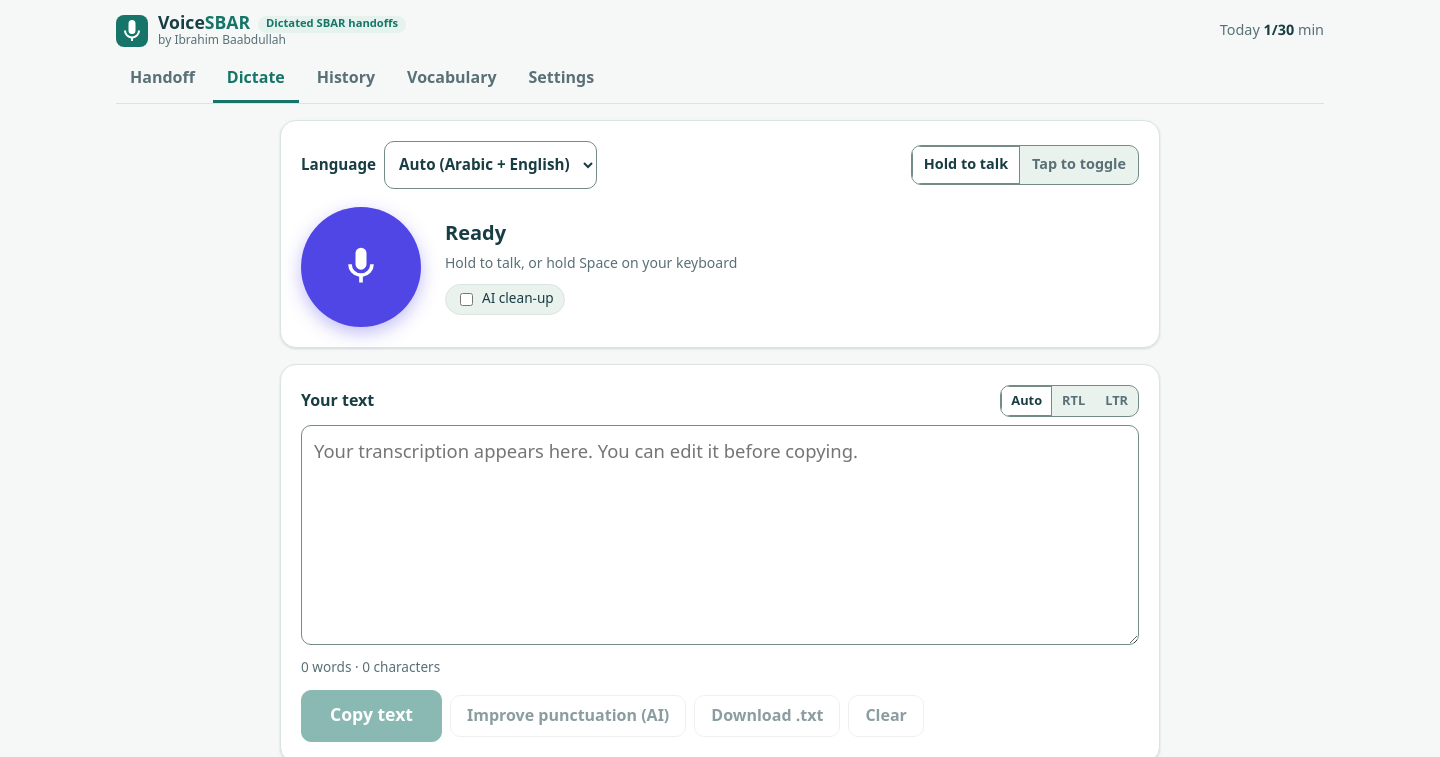
Test: dictation › falls back to selecting the text when copying is blocked
Replace the text in the text box labelled "Your text" with "نص للنسخ". click: (720, 535)
box: [301,425,1139,645]
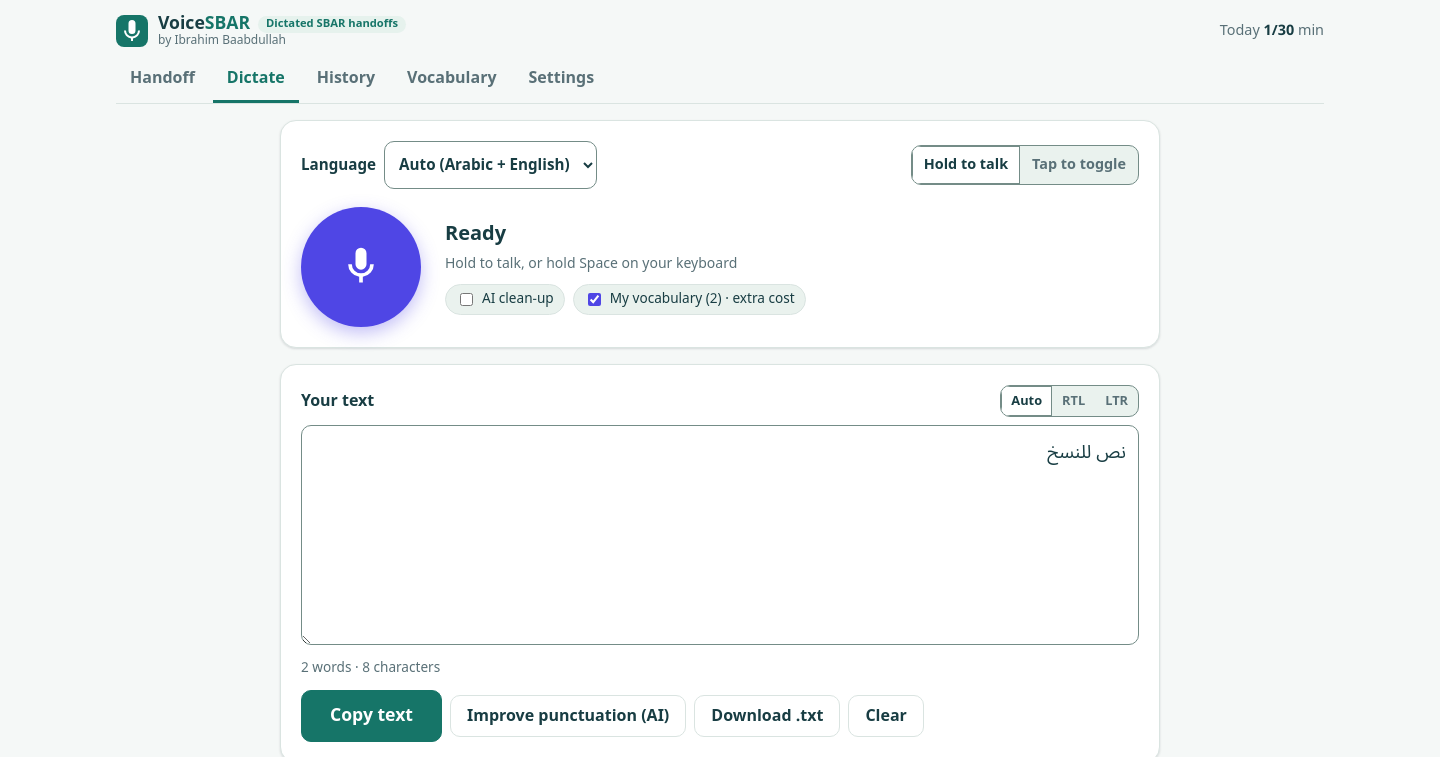
Click the button "Copy text". click: (372, 716)
box: [301,690,442,742]
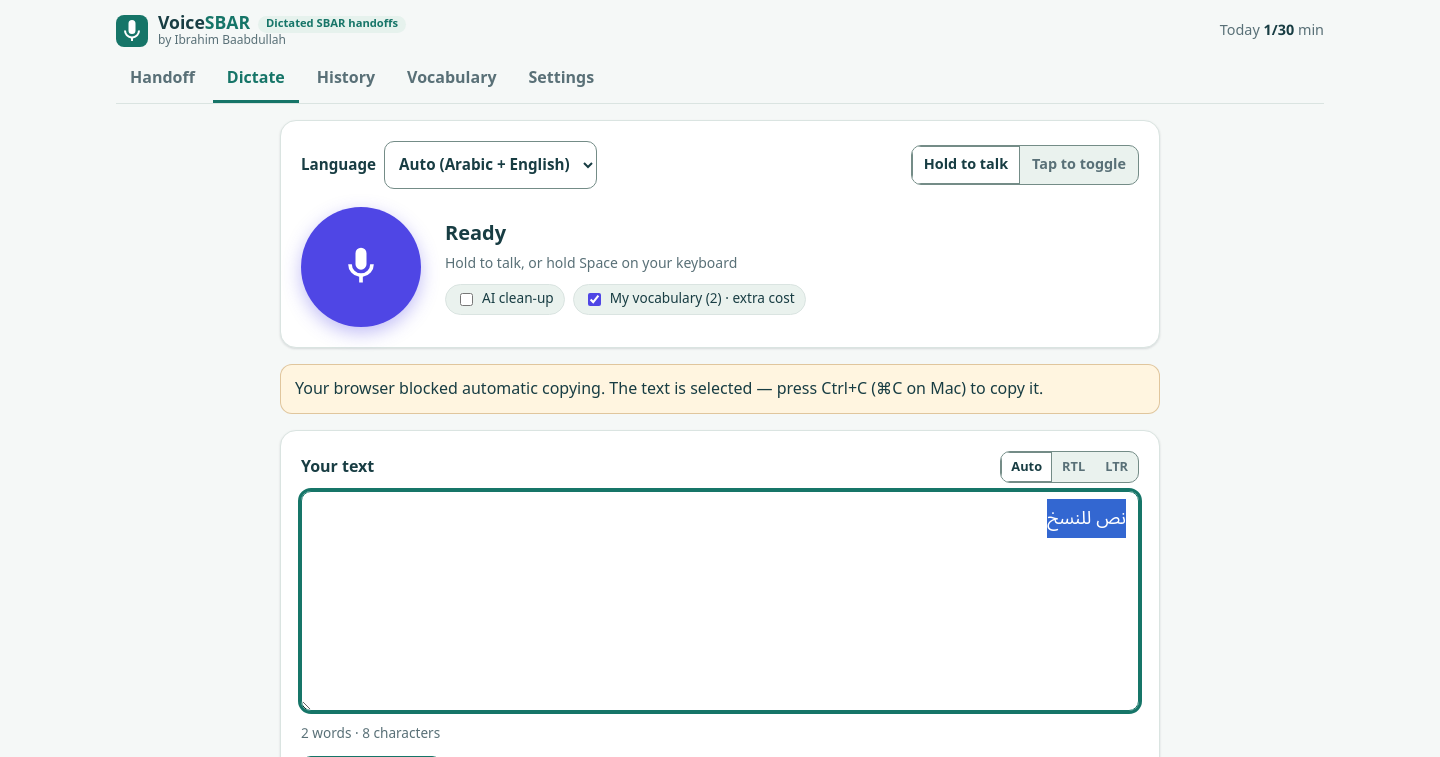
Check: the text "press Ctrl+C" is shown, box [295,372,1043,406]
